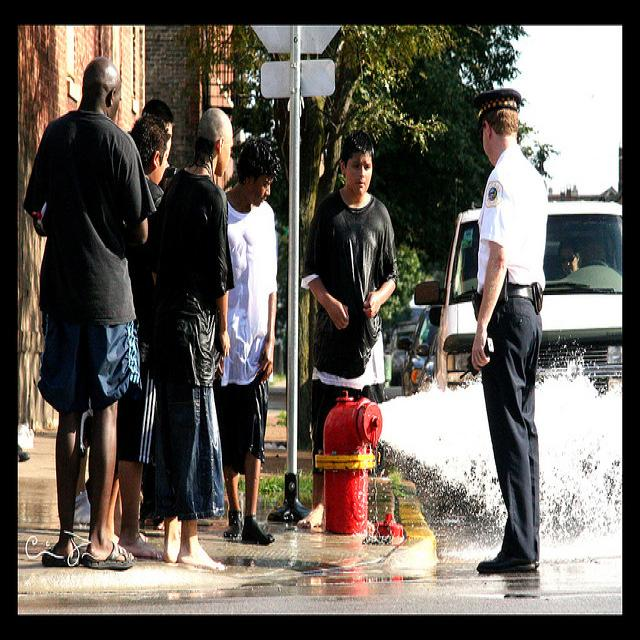Vehicle: (436, 196, 623, 392), (400, 310, 435, 396), (384, 320, 418, 387)
